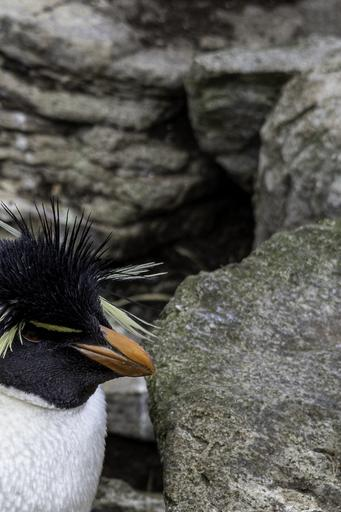Southern Rockhopper Penguin: (0, 190, 189, 512)
